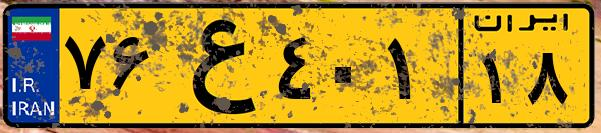0: (330, 28, 385, 110)
1: (385, 28, 445, 110), (475, 38, 525, 113)
4: (270, 28, 330, 110)
6: (110, 28, 158, 98)
7: (57, 26, 110, 100)
8: (525, 38, 570, 115)
ع: (158, 12, 270, 120)
